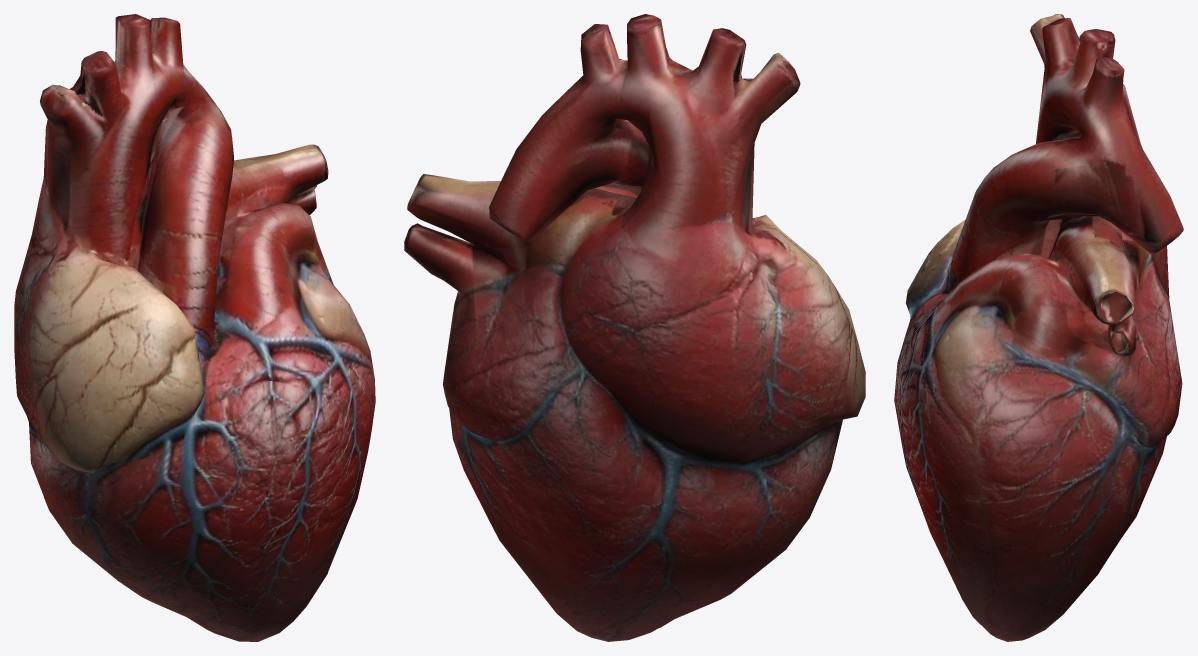
File: Heart.glb
The picture shows the model from 3 angles, left to right: view 1: azimuth 30°, elevation 25°; view 2: azimuth 150°, elevation 25°; view 3: azimuth 270°, elevation 25°; orthographic projection. The views are drawn at different scales.
Visible parts, largest first — view 1: Stylized Human Heart; view 2: Stylized Human Heart; view 3: Stylized Human Heart.
Boxes of the visible parts, x1,y1,x2,y2 form: Stylized Human Heart: [14, 14, 375, 641]; Stylized Human Heart: [404, 14, 865, 641]; Stylized Human Heart: [894, 14, 1183, 641].
Size of the model in its own units: 0.047 by 0.0804 by 0.037.
Materials: 1 (1 with a texture image).
